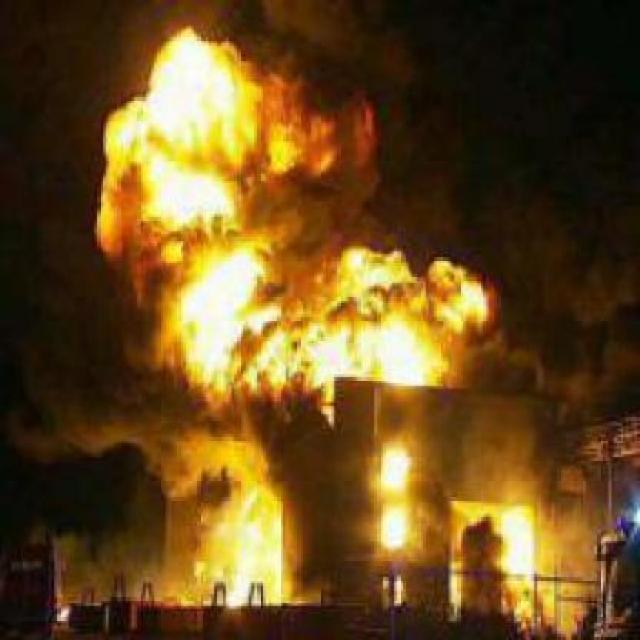Fire: (167, 244, 492, 388), (94, 26, 264, 258), (198, 477, 280, 605), (262, 106, 334, 174), (500, 504, 536, 574), (374, 448, 412, 491), (378, 505, 406, 551)
